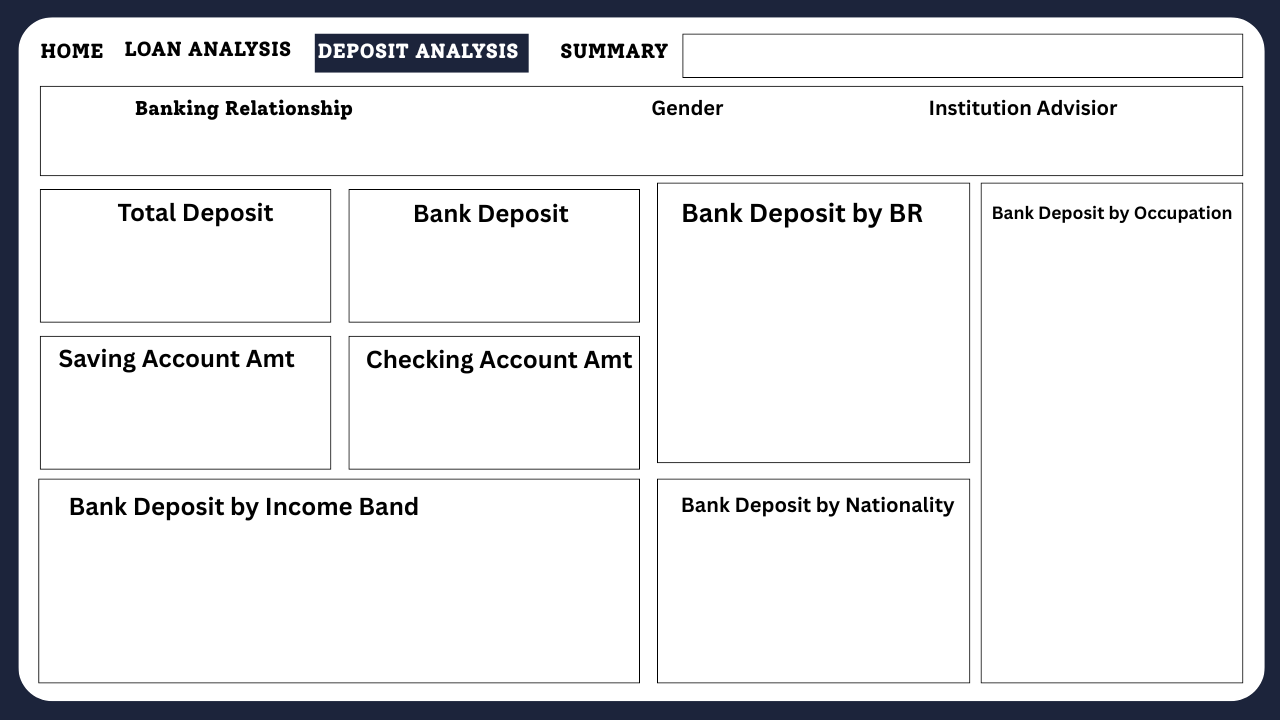

What the dashboard file says about the page in this screenshot:
{"tool":"powerbi","page":{"name":"Deposit Analysis","canvas":[1280,720],"ordinal":2},"visuals":[{"type":"actionButton","box":[36.2,36.2,71.2,25.3],"z":0},{"type":"actionButton","box":[557.1,30.2,113.9,39.8],"z":1000},{"type":"slicer","fields":{"Values":["customer.Year of joining"]},"box":[693,35.7,537.9,34.3],"z":2000},{"type":"card","fields":{"Values":["Sum(customer.Bank Deposits)"]},"box":[397.9,244.3,194.9,63.1],"z":3000},{"type":"card","fields":{"Values":["Sum(customer.Saving Accounts)"]},"box":[85.1,385.6,194.9,64.5],"z":4000},{"type":"card","fields":{"Values":["Sum(customer.Checking Accounts)"]},"box":[397.9,387,194.9,64.5],"z":5000},{"type":"card","fields":{"Values":["customer.Total deposit"]},"box":[94.7,238.8,194.9,74.1],"z":6000},{"type":"donutChart","fields":{"Category":["customer.Income Band"],"Y":["Sum(customer.Bank Deposits)"]},"box":[49.4,516,565.4,160.5],"z":7000},{"type":"clusteredColumnChart","fields":{"Category":["customer.BRId"],"Y":["Sum(customer.Bank Deposits)"]},"box":[661.4,233.3,300.5,214.1],"z":8000},{"type":"treemap","fields":{"Group":["customer.Nationality"],"Values":["Sum(customer.Bank Deposits)"]},"box":[671,516,290.9,150.9],"z":9000},{"type":"clusteredColumnChart","fields":{"Category":["customer.Occupation"],"Y":["Sum(customer.Bank Deposits)"]},"box":[988,233.3,242.9,433.6],"z":10000},{"type":"slicer","fields":{"Values":["customer.BRId"]},"box":[49.4,118,461.1,50.8],"z":11000},{"type":"slicer","fields":{"Values":["customer.GenderId"]},"box":[510.5,118,285.4,45.3],"z":12000},{"type":"slicer","fields":{"Values":["customer.IAId"]},"box":[794.5,118,436.4,45.3],"z":13000},{"type":"actionButton","box":[119.4,30.2,170.2,30.2],"z":14000}]}

Visuals, with their boxes in screenshot pixels (x1, y1, x2, y2), scaled from the page's 1280x720 canvas onto the 1280x720 screenshot:
actionButton: BBox(36, 36, 107, 62)
actionButton: BBox(557, 30, 671, 70)
slicer - customer.Year of joining: BBox(693, 36, 1231, 70)
card - Sum(customer.Bank Deposits): BBox(398, 244, 593, 307)
card - Sum(customer.Saving Accounts): BBox(85, 386, 280, 450)
card - Sum(customer.Checking Accounts): BBox(398, 387, 593, 452)
card - customer.Total deposit: BBox(95, 239, 290, 313)
donutChart - customer.Income Band x Sum(customer.Bank Deposits): BBox(49, 516, 615, 676)
clusteredColumnChart - customer.BRId x Sum(customer.Bank Deposits): BBox(661, 233, 962, 447)
treemap - customer.Nationality x Sum(customer.Bank Deposits): BBox(671, 516, 962, 667)
clusteredColumnChart - customer.Occupation x Sum(customer.Bank Deposits): BBox(988, 233, 1231, 667)
slicer - customer.BRId: BBox(49, 118, 510, 169)
slicer - customer.GenderId: BBox(510, 118, 796, 163)
slicer - customer.IAId: BBox(794, 118, 1231, 163)
actionButton: BBox(119, 30, 290, 60)
